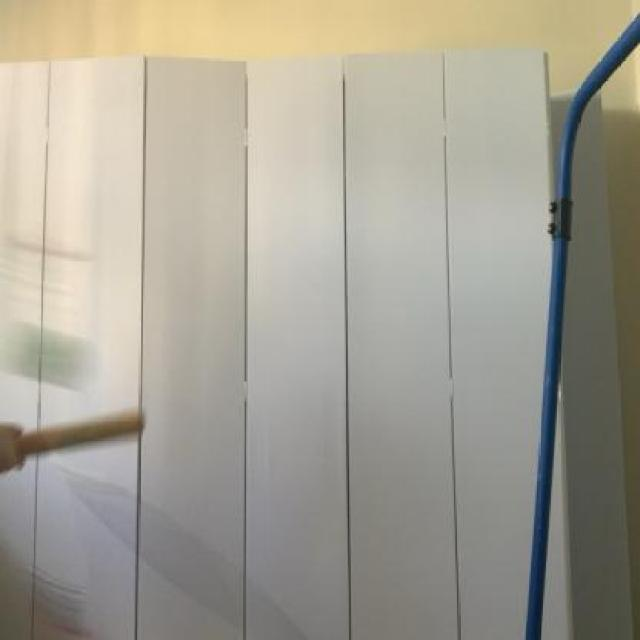baseball: (0, 312, 111, 400)
